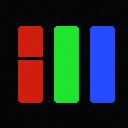3 line_h: (13, 57, 43, 59)
